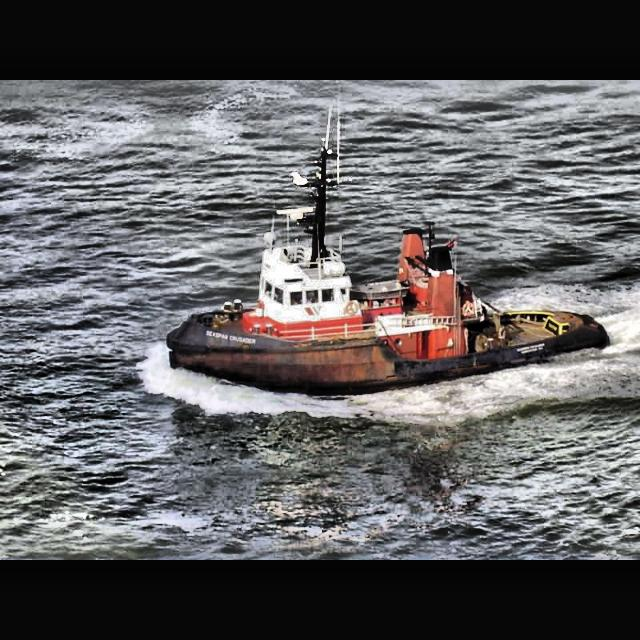tug: (168, 211, 612, 397)
